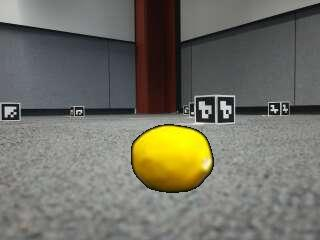lemon: (131, 125, 212, 192)
